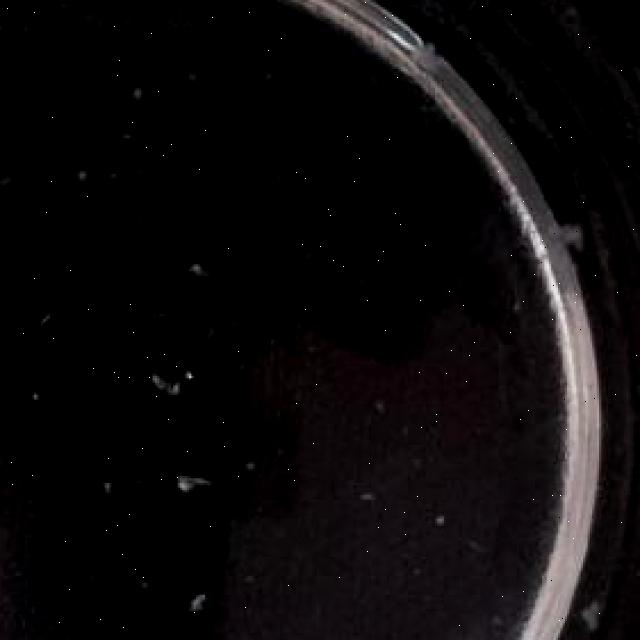Microplastic: (144, 359, 178, 395), (159, 471, 203, 495), (185, 585, 214, 616)
